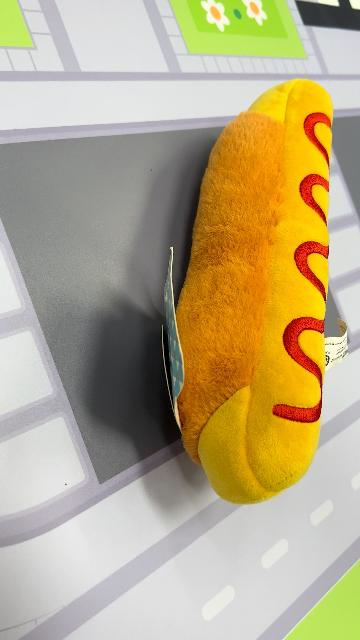hotdog: (171, 78, 337, 506)
